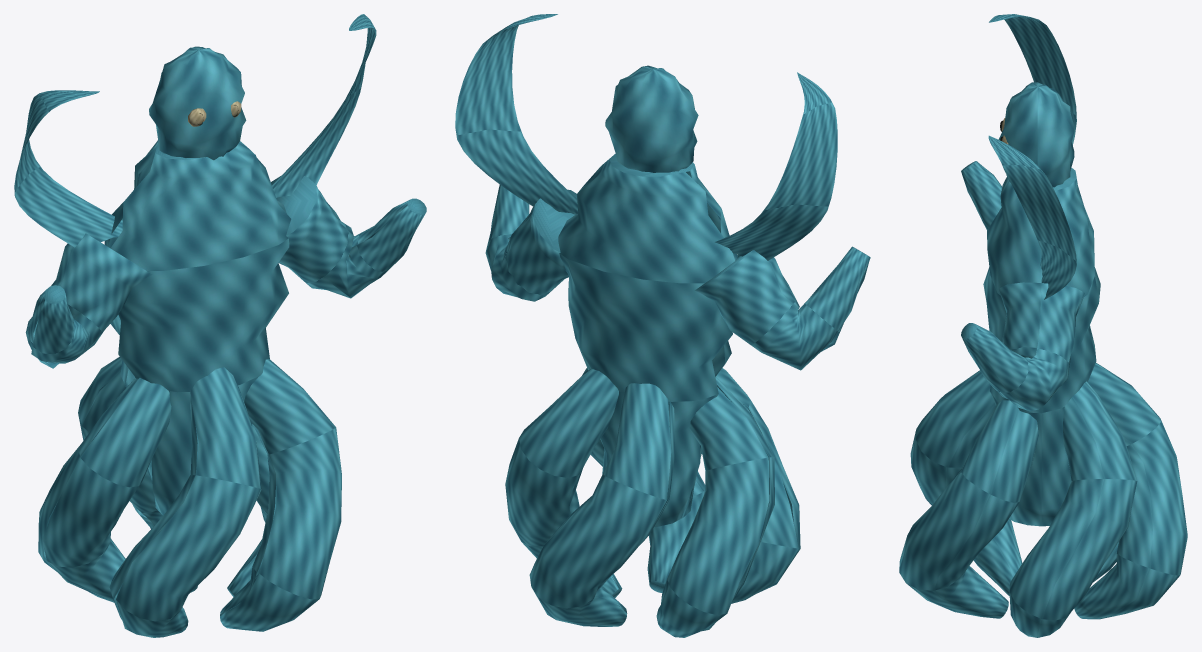
File: special-water-elemental.glb
3 views of the same model, side by side, from view 1: azimuth 30°, elevation 25°; view 2: azimuth 150°, elevation 25°; view 3: azimuth 270°, elevation 25° (orthographic). The views are drawn at different scales.
Parts seen in each view (by area): view 1: water; view 2: water; view 3: water.
Boxes of the visible parts, x1,y1,x2,y2 form: water: (14, 14, 426, 637); water: (455, 14, 870, 637); water: (899, 14, 1187, 637).
Bounding box in the file's own units: 1.01 × 1.45 × 0.7124.
3 materials, 3 textured.
